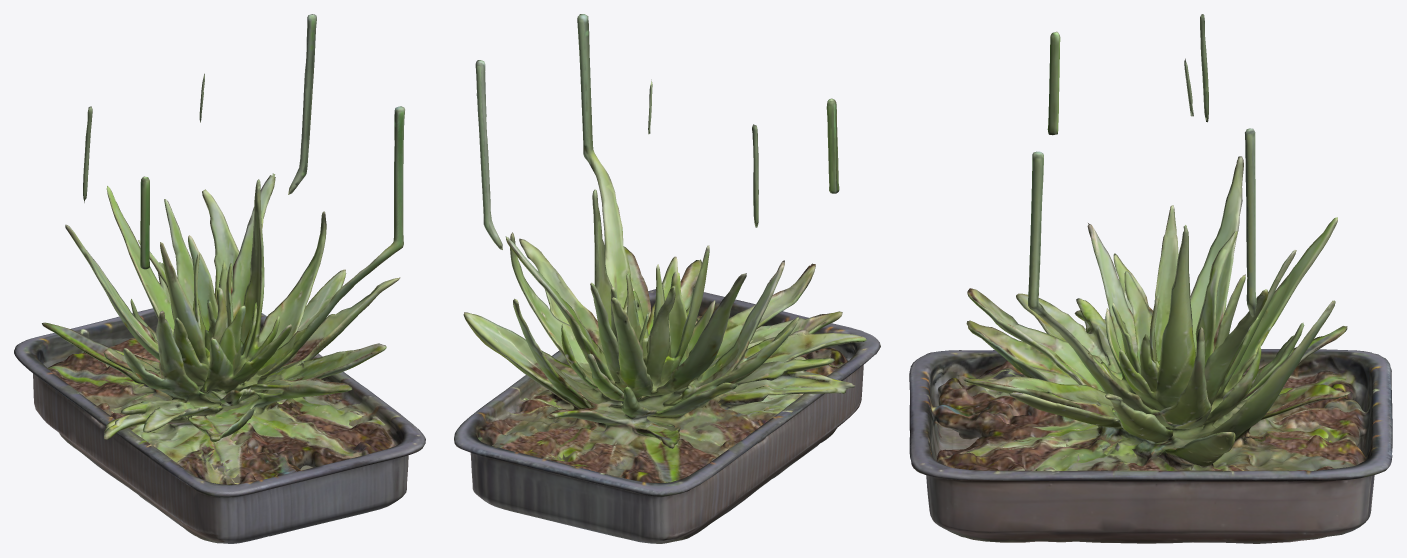
File: Aloe_Vera_Plant_0905074412.glb
3 views of the same model, side by side, from view 1: azimuth 30°, elevation 25°; view 2: azimuth 150°, elevation 25°; view 3: azimuth 270°, elevation 25° (orthographic). The views are drawn at different scales.
Size of the model in its own units: 1.67 by 1.99 by 1.99.
1 material, 1 textured.
